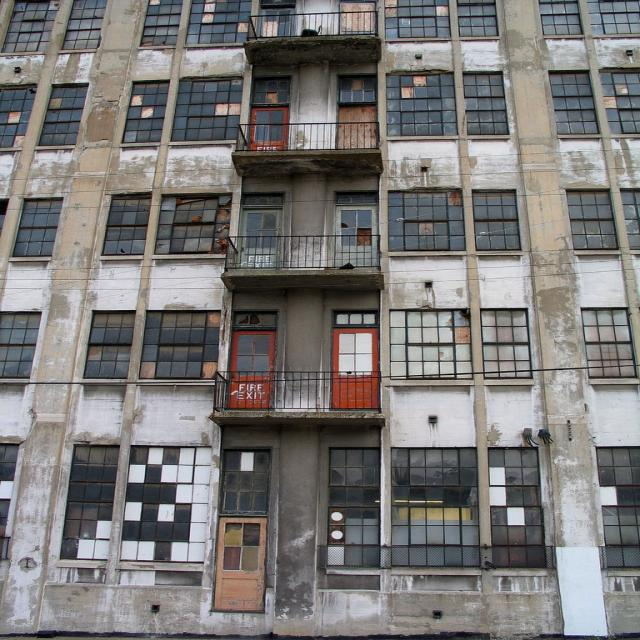no_fire: (12, 26, 640, 624)
